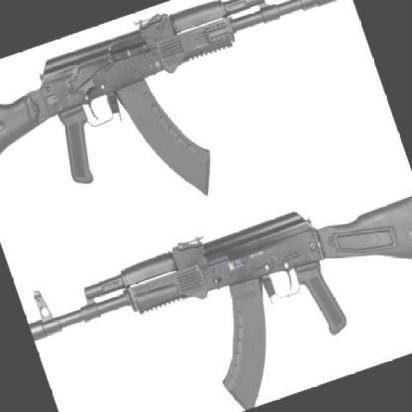Gun: (0, 0, 397, 276), (17, 163, 412, 412)
